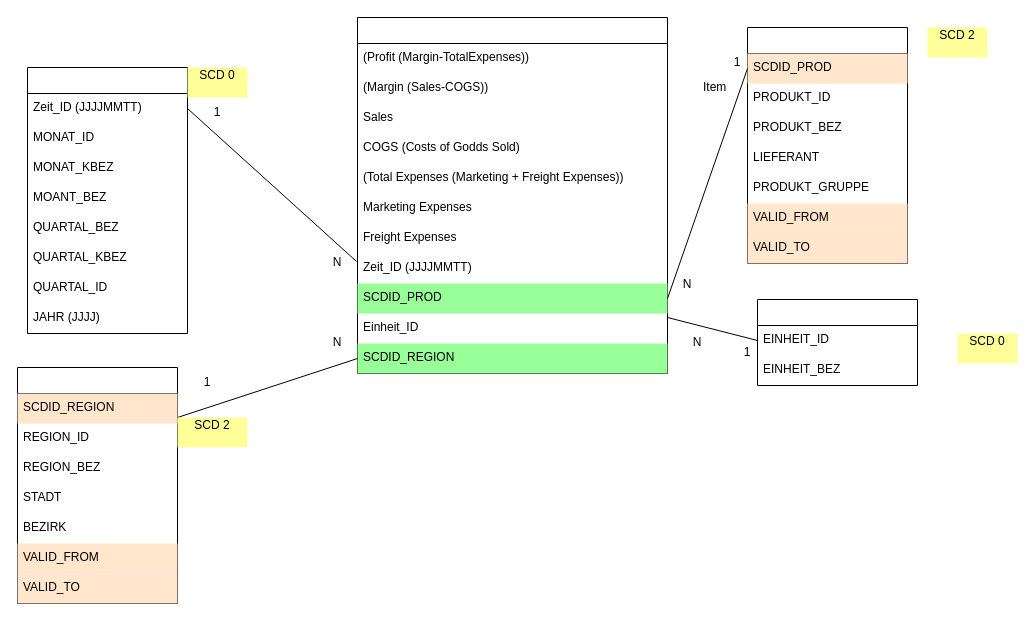
Image size: 1035x624. Some labels were removed from this diagram. The shapes that lost their labels are listed below. From the top down, each one's box as (x1, y1, x2, y2) in pixels, then its label:
(746, 26, 908, 264): DWH_DIM_PRODUKT
(26, 66, 188, 334): DWH_DIM_ZEIT
(356, 16, 668, 374): DWH_FACT_DATA
(756, 298, 918, 386): DWH_DIM_EINHEITT
(16, 366, 178, 604): DWH_DIM_REGION
